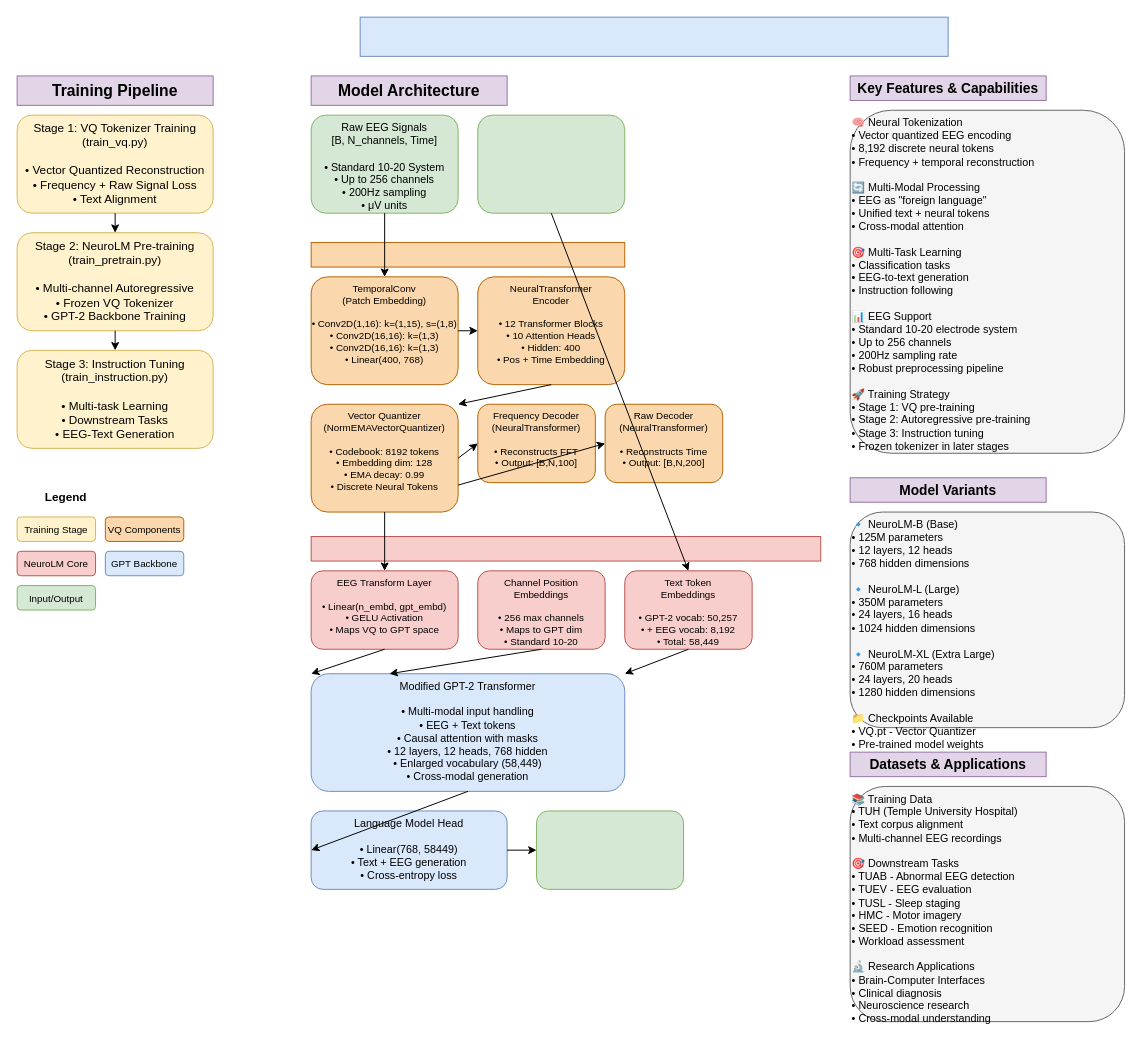
This 1142x1043 diagram has some shape labels left out. Each missing label, with the centre of its shape:
"Generated Text • Natural language • EEG interpretations • Multi-task outputs" belongs at [610,849].
"NeuroLM Main Model" belongs at [565,548].
"NeuroLM: Multi-Modal Foundation Model Architecture" belongs at [653,36].
"Text Tokens [B, Seq_len] • GPT-2 Tokenizer • Vocab: 50,257 • Natural Language" belongs at [551,163].
"VQ Tokenizer (Frozen in Stage 2+)" belongs at [467,254].
